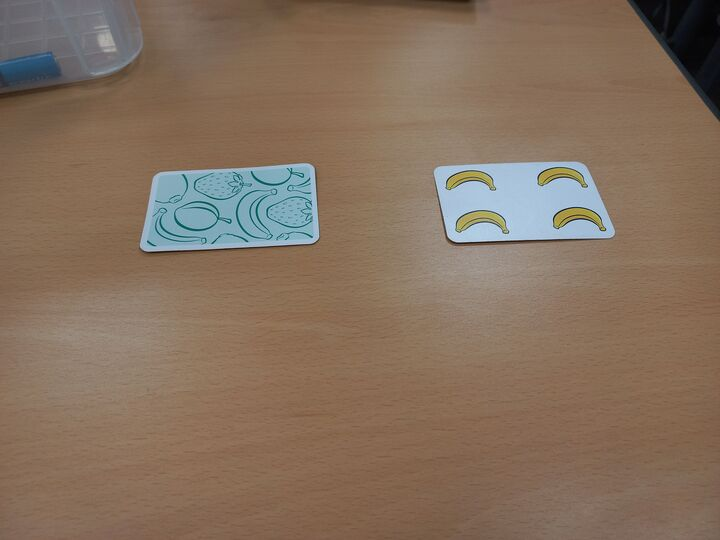banana4: (431, 160, 618, 245)
